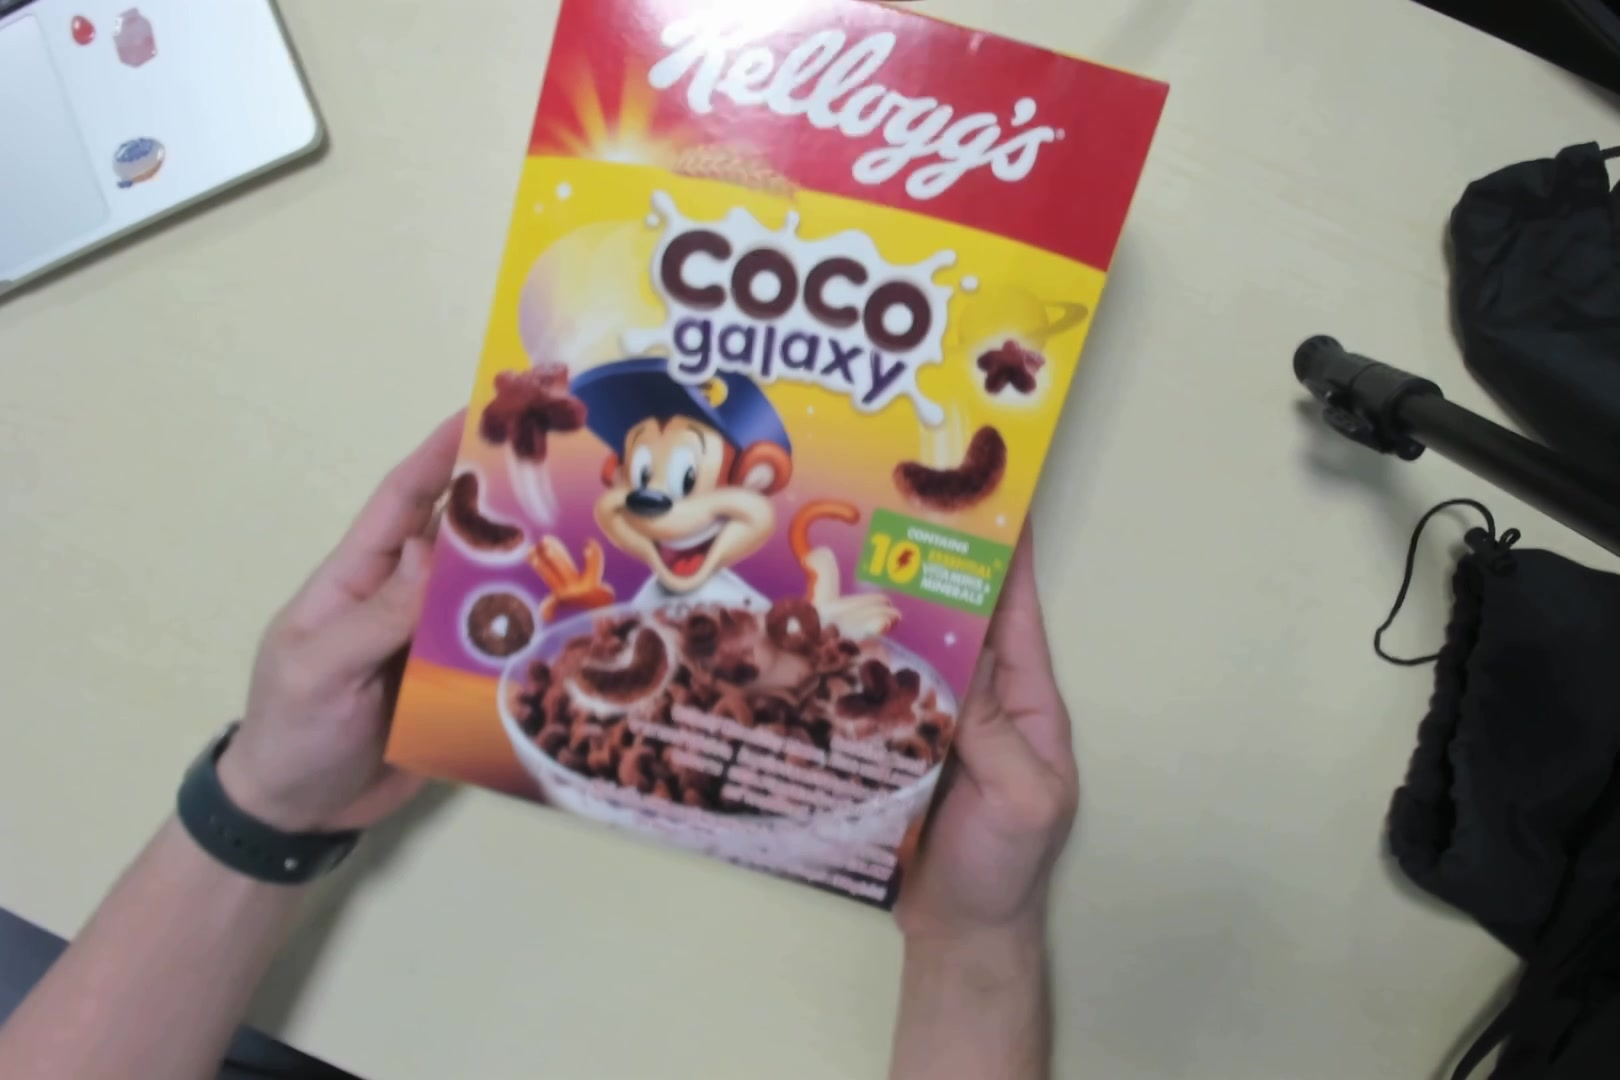BreakfastCereals_300-399g_Halal_NonHealthy: (383, 8, 1170, 903)
